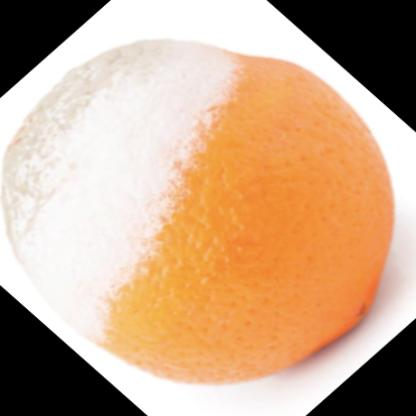rotten: (2, 40, 393, 382)
